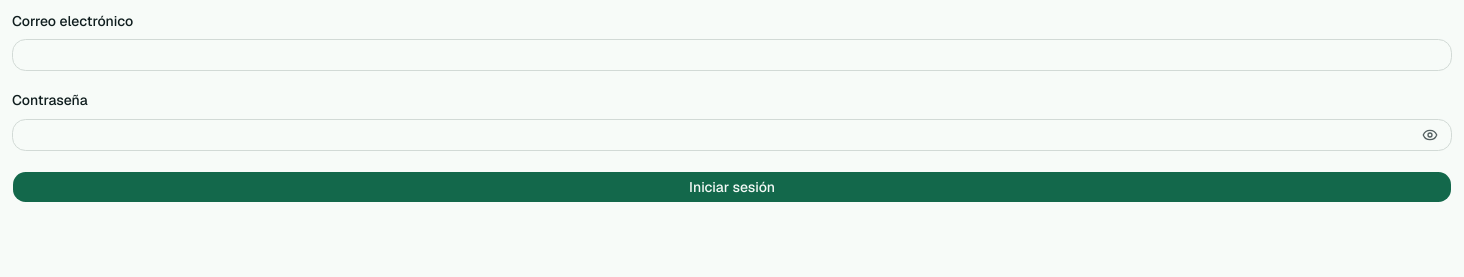
LoginForm › shows a generic error when the network request fails
The width and height of the screenshot is (1464, 277).
In the field labelled "Correo electrónico": (732, 55) [12, 39, 1452, 71], type "ana@example.com"
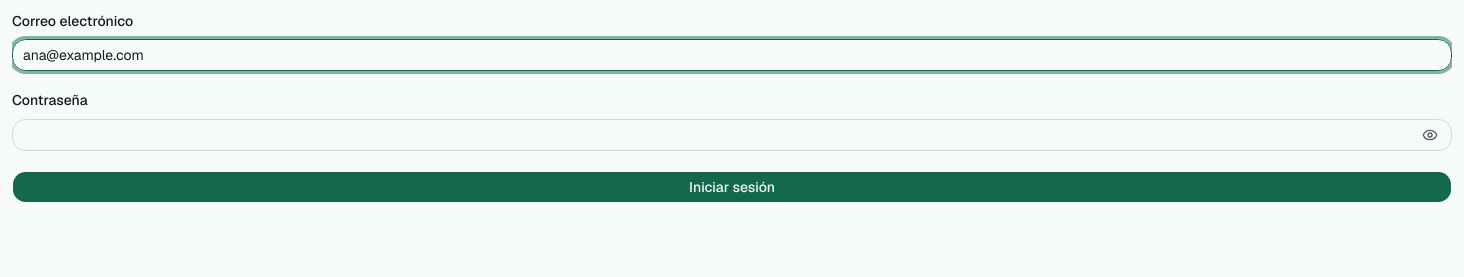
In the password field labelled "Contraseña": (732, 134) [12, 118, 1452, 150], type "SecurePass123!"
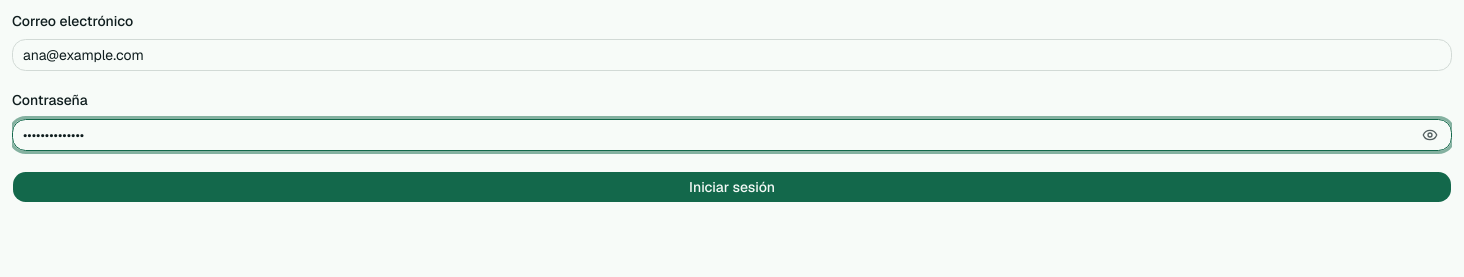
Click the button "Iniciar sesión": (732, 186) [12, 170, 1452, 202]
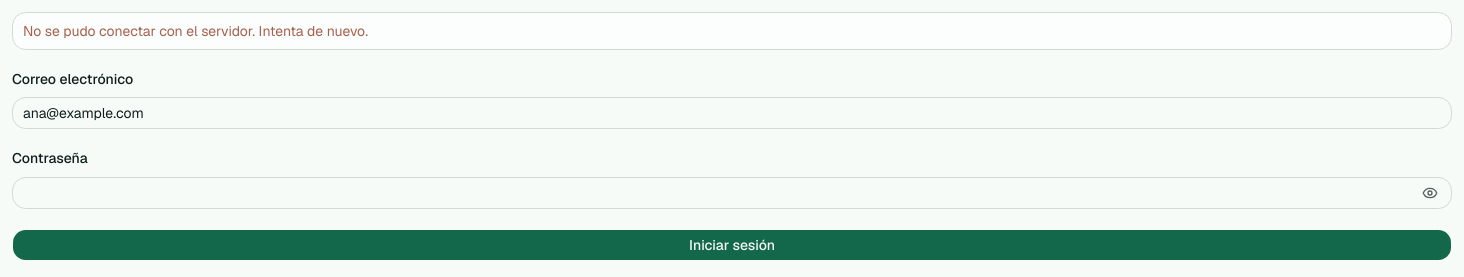
Check: the text "No se pudo conectar con el servidor. Intenta de nuevo." is shown, box [23, 22, 368, 40]
